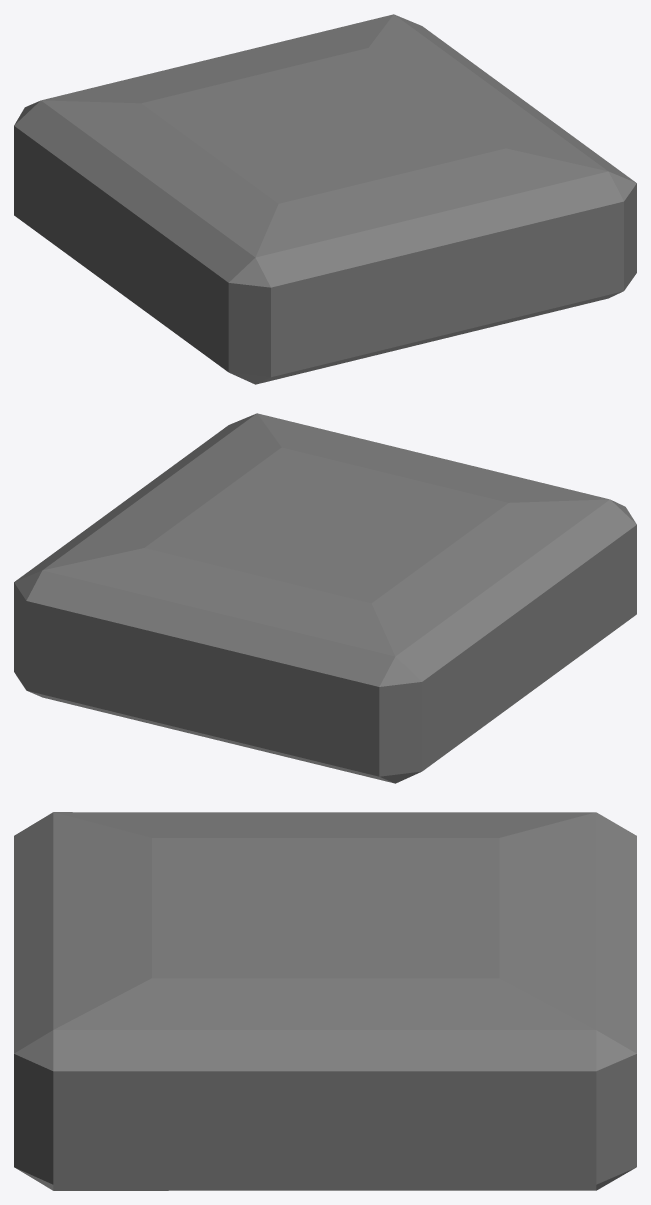
File: hand.obj
3 views of the same model, one above another, from view 1: azimuth 30°, elevation 25°; view 2: azimuth 150°, elevation 25°; view 3: azimuth 270°, elevation 25° (orthographic). The views are drawn at different scales.
Parts seen in each view (by area): view 1: Rig1; view 2: Rig1; view 3: Rig1.
Part boxes in pixels (x1,y1,x2,y2): Rig1: (14, 14, 636, 384); Rig1: (14, 413, 636, 783); Rig1: (14, 812, 636, 1190).
Size of the model in its own units: 0.9843 by 0.3158 by 1.03.
1 material, 1 textured.
